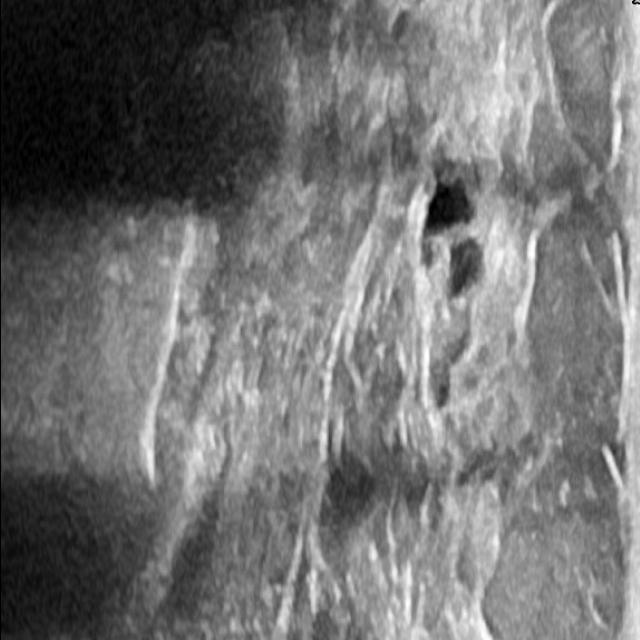Benign: (417, 176, 484, 238)
